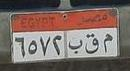2: (52, 34, 62, 56)
5: (27, 38, 38, 56)
6: (15, 36, 26, 57)
7: (39, 35, 50, 56)
baa: (69, 38, 83, 54)
meem: (101, 32, 116, 54)
qaaf: (85, 33, 99, 54)
